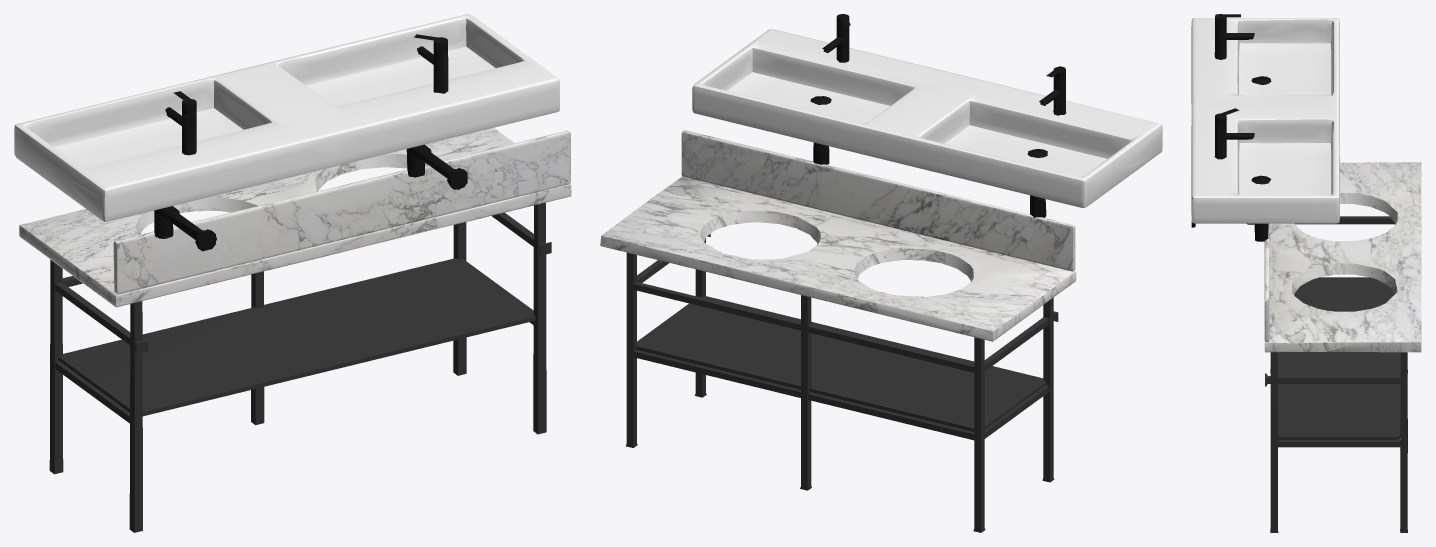
File: bathroom furnitureReduced.fbx
The picture shows the model from 3 angles, left to right: view 1: azimuth 30°, elevation 25°; view 2: azimuth 150°, elevation 25°; view 3: azimuth 270°, elevation 25°; orthographic projection. The views are drawn at different scales.
Visible parts, largest first — view 1: bathroom furniture, sink; view 2: bathroom furniture, sink; view 3: bathroom furniture, sink.
Part boxes in pixels (x1,y1,x2,y2): bathroom furniture: (19, 127, 571, 532); sink: (14, 14, 559, 251); bathroom furniture: (600, 130, 1076, 532); sink: (692, 14, 1162, 218); bathroom furniture: (1264, 162, 1421, 532); sink: (1191, 14, 1339, 241).
Size of the model in its own units: 2009 by 1678 by 962.
